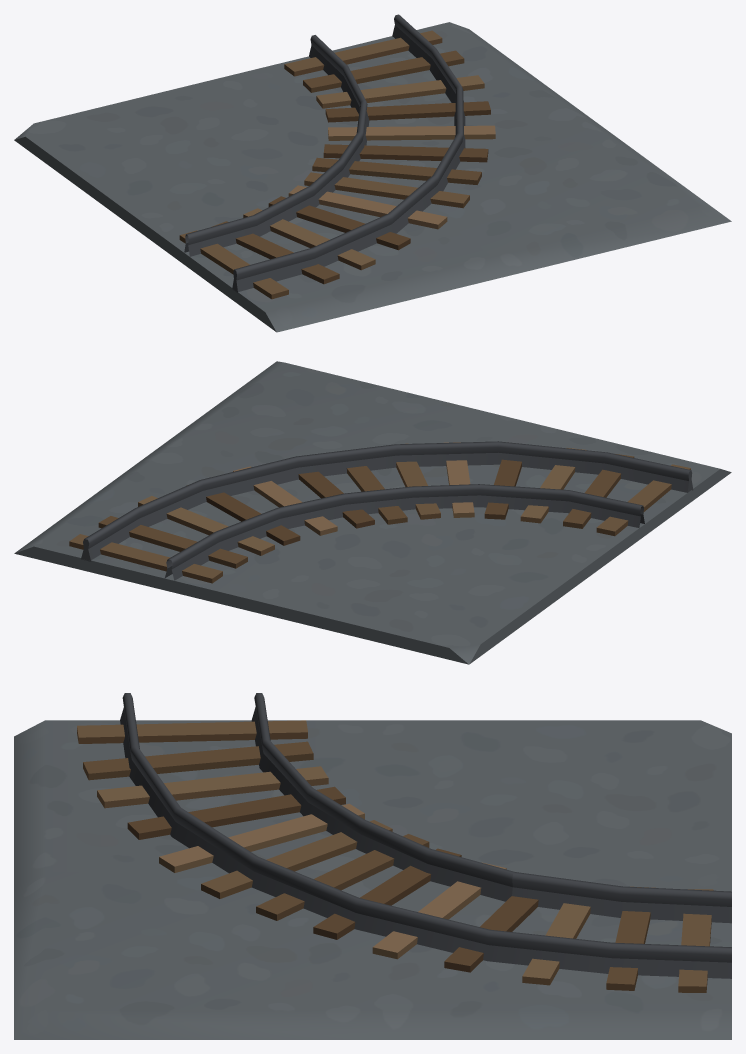
The model's file is Railroad_D01.fbx.
The picture shows the model from 3 angles, top to bottom: view 1: azimuth 30°, elevation 25°; view 2: azimuth 150°, elevation 25°; view 3: azimuth 270°, elevation 25°; orthographic projection. The views are drawn at different scales.
Visible parts, largest first — view 1: Railroad_D01; view 2: Railroad_D01; view 3: Railroad_D01.
Boxes of the visible parts, bbox=[...] form: Railroad_D01: bbox=[14, 14, 731, 332]; Railroad_D01: bbox=[14, 361, 731, 664]; Railroad_D01: bbox=[14, 693, 731, 1039].
Bounding box in the file's own units: 800 × 53.47 × 800.
Materials: 1 (1 with a texture image).
